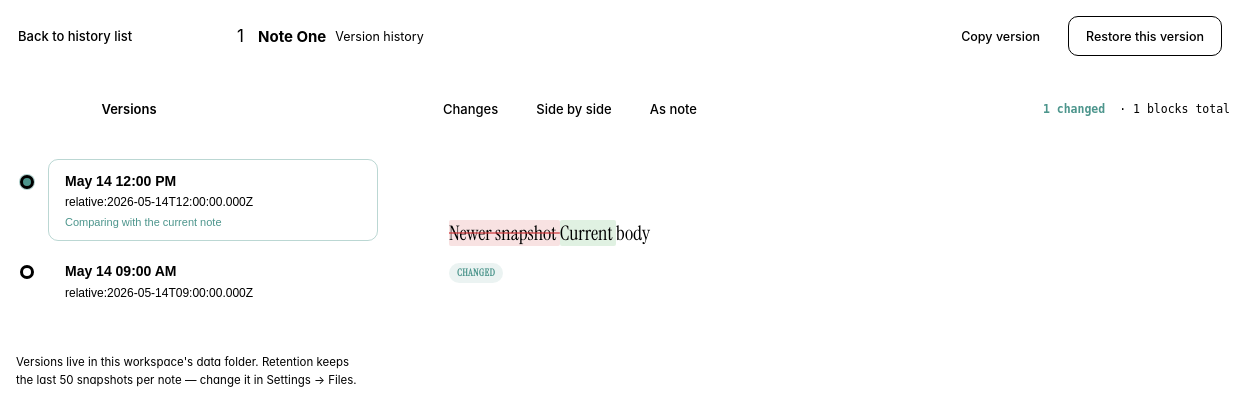
Test: HistoryView › switches to "As note" mode and shows the raw snapshot content
The image size is (1246, 404).
Click the tab with class "history-diff-pane__tab" showing "As note" at x=673, y=109, box top-left (633, 89), bottom-right (714, 129)
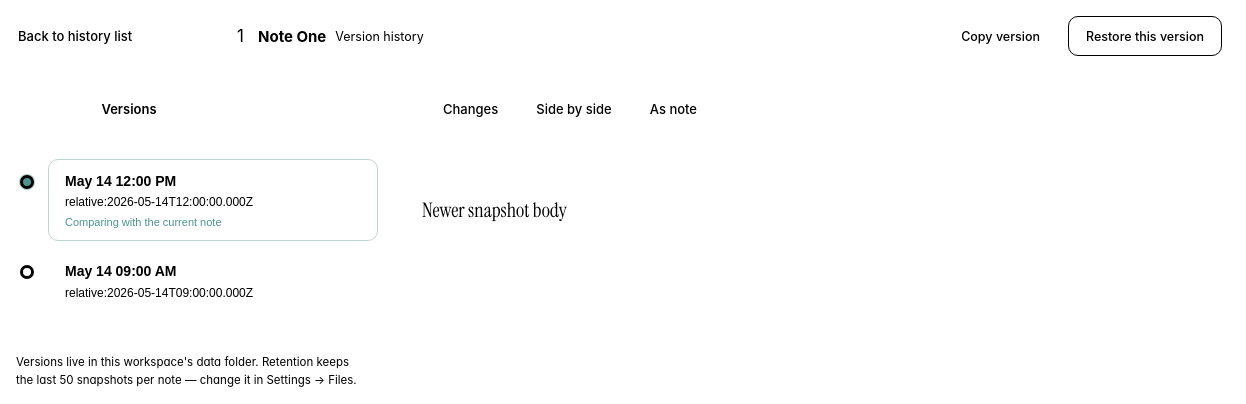
Now the element with class "history-preview-block" reads "Newer snapshot body", box top-left (422, 197), bottom-right (567, 223)
